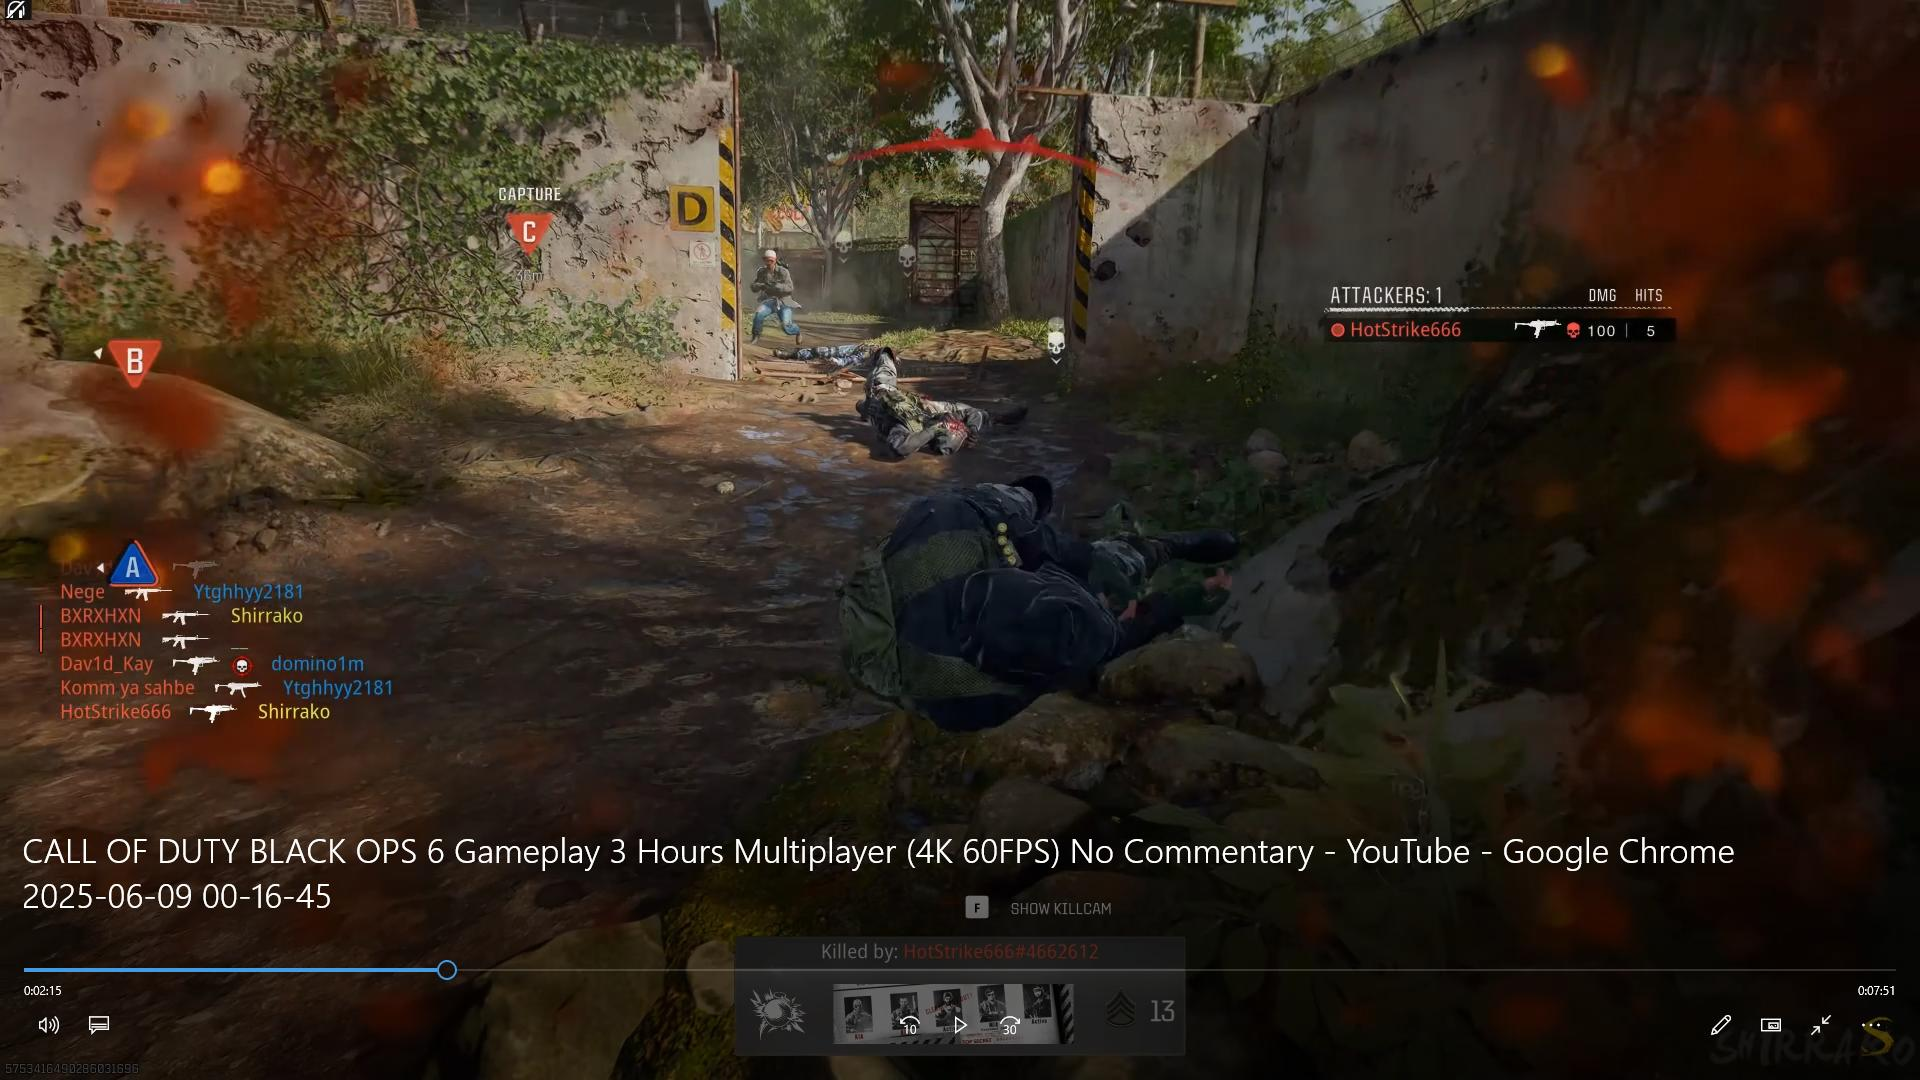Enemy: (744, 245, 799, 348)
